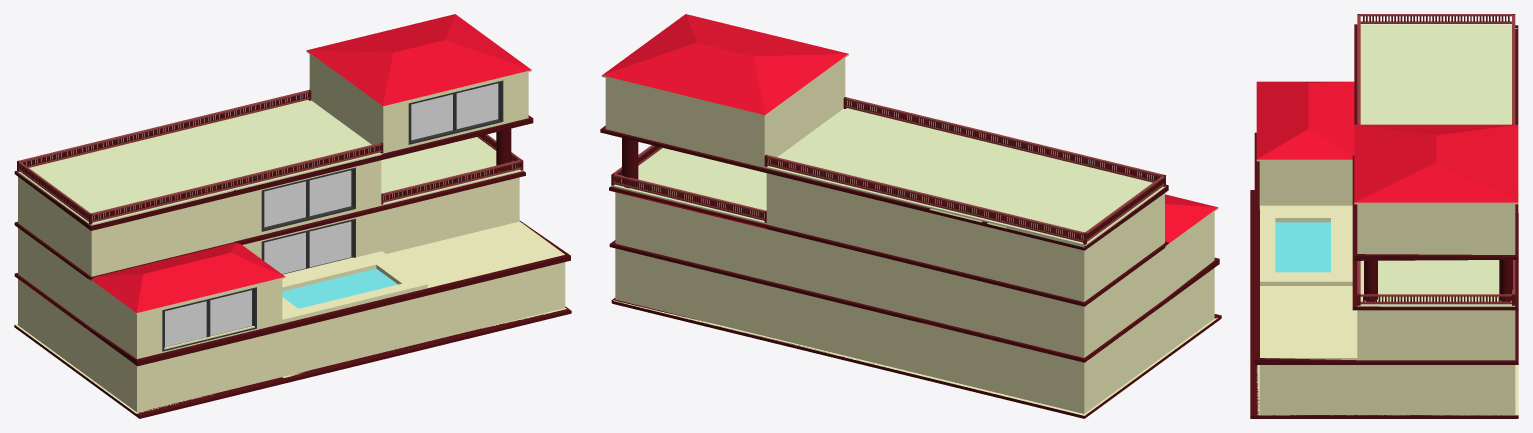
The model's file is HOTEL2.fbx.
3 views of the same model, side by side, from view 1: azimuth 30°, elevation 25°; view 2: azimuth 150°, elevation 25°; view 3: azimuth 270°, elevation 25° (orthographic). The views are drawn at different scales.
Visible parts, largest first — view 1: building_001, Plane, Cylinder; view 2: building_001, Cylinder.001; view 3: building_001, Plane, Cylinder, Cylinder.001.
Part boxes in pixels (x1,y1,x2,y2): building_001: (14, 14, 571, 418); Plane: (282, 268, 397, 308); Cylinder: (496, 128, 511, 170); building_001: (600, 14, 1221, 418); Cylinder.001: (622, 138, 638, 188); building_001: (1250, 14, 1518, 418); Plane: (1275, 222, 1330, 272); Cylinder: (1364, 260, 1377, 301); Cylinder.001: (1499, 260, 1512, 301).
Size of the model in its own units: 3349 by 1590 by 1643.
